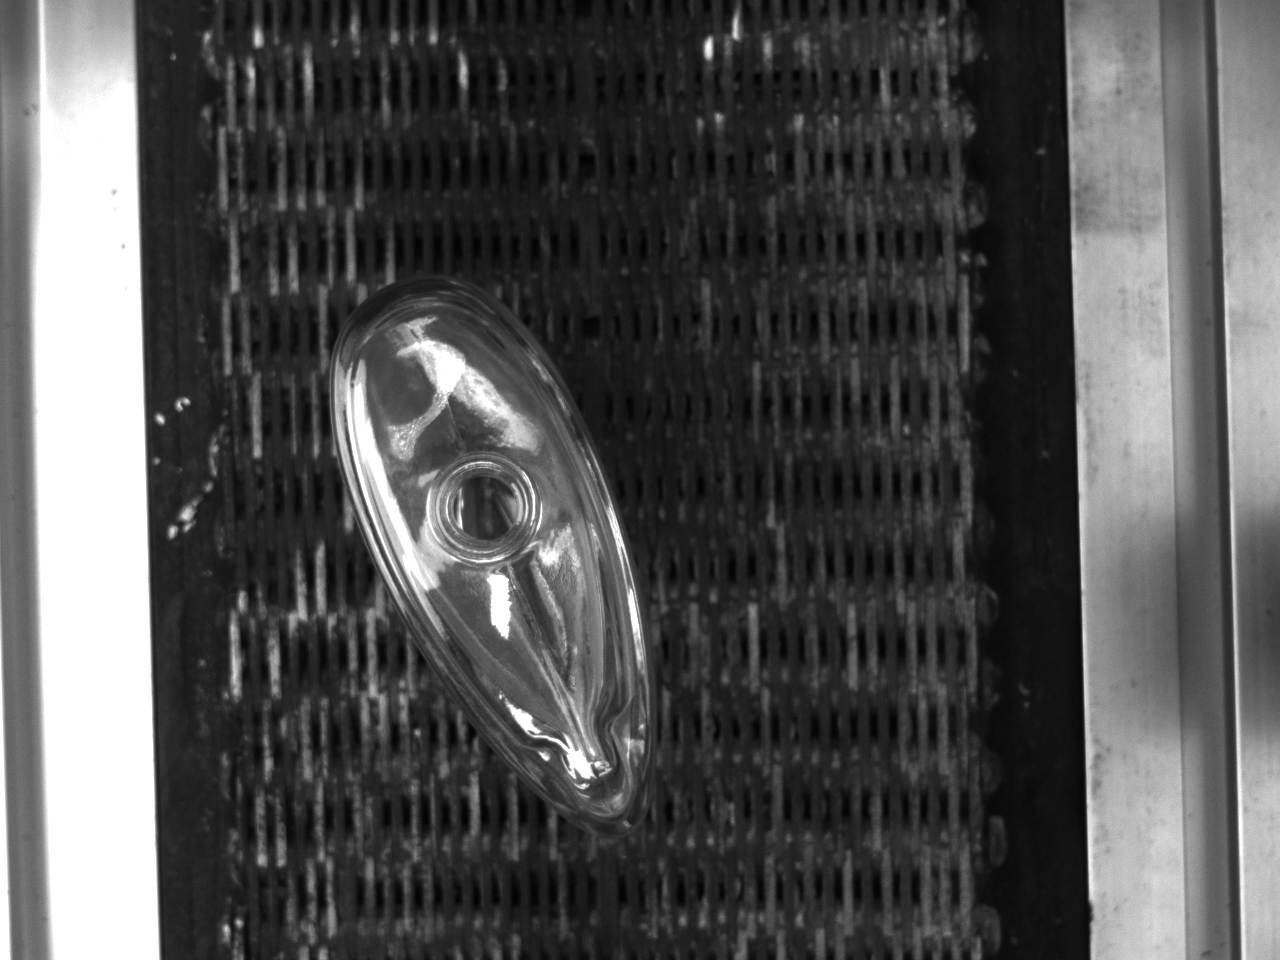bottleneck: (430, 451, 542, 561)
